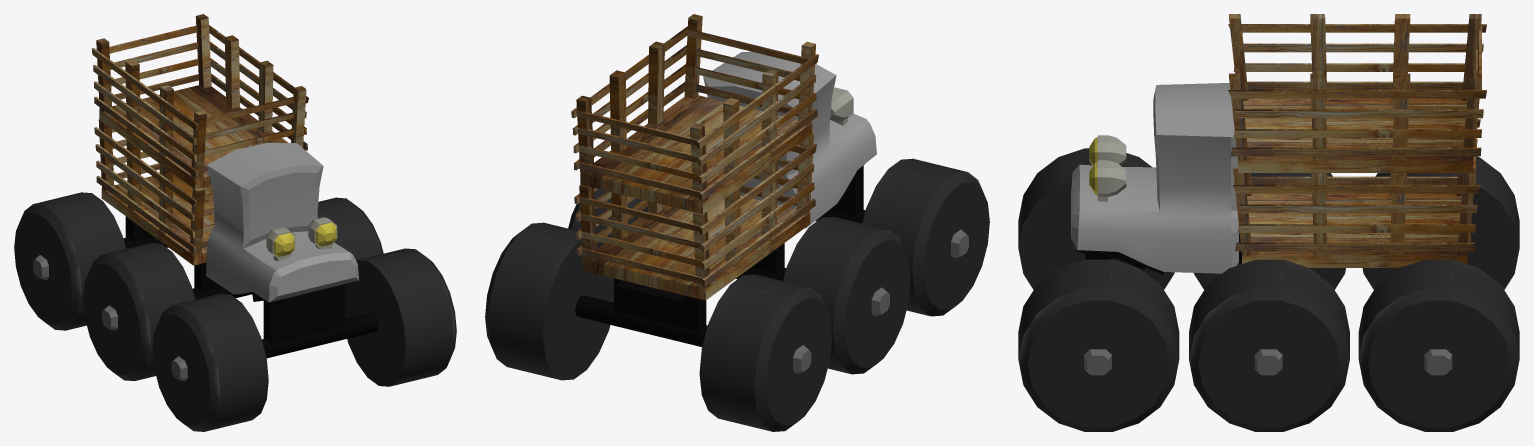
File: Truck3.obj
3 views of the same model, side by side, from view 1: azimuth 30°, elevation 25°; view 2: azimuth 150°, elevation 25°; view 3: azimuth 270°, elevation 25° (orthographic). The views are drawn at different scales.
Visible parts, largest first — view 1: Box131, Cylinder044, Cylinder043, Cylinder042, Cylinder040, Box249, Box252, Cylinder027, Box228, Cylinder041, Box230, Box247 (+21 smaller); view 2: Cylinder040, Cylinder039, Cylinder044, Cylinder042, Box252, Box131, Box228, Box249, Cylinder030, Box230, Box247, Box246 (+27 smaller); view 3: Cylinder039, Cylinder043, Cylinder041, Box131, Box252, Box228, Cylinder044, Box249, Cylinder040, Box230, Box253, Box250 (+18 smaller).
Boxes of the visible parts, x1,y1,x2,y2 form: Box131: (206, 142, 359, 302); Cylinder044: (152, 293, 268, 431); Cylinder043: (344, 248, 456, 386); Cylinder042: (83, 243, 194, 381); Cylinder040: (14, 192, 125, 330); Box249: (96, 14, 306, 179); Box252: (99, 85, 288, 189); Cylinder027: (262, 285, 378, 358); Box228: (101, 174, 214, 265); Cylinder041: (317, 197, 383, 260); Box230: (98, 119, 205, 255); Box247: (91, 48, 198, 130); Cylinder040: (699, 274, 831, 431); Cylinder039: (485, 222, 613, 380); Cylinder044: (862, 158, 989, 316); Cylinder042: (783, 216, 910, 374); Box252: (580, 95, 812, 214); Box131: (703, 51, 876, 228); Box228: (583, 195, 810, 300); Box249: (576, 14, 815, 202); Cylinder030: (575, 278, 707, 346); Box230: (579, 133, 813, 288); Box247: (696, 54, 818, 148); Box246: (699, 109, 817, 200); Cylinder039: (1358, 259, 1519, 431); Cylinder043: (1018, 259, 1179, 431); Cylinder041: (1189, 259, 1349, 431); Box131: (1071, 83, 1238, 273); Box252: (1238, 98, 1473, 172); Box228: (1242, 193, 1467, 267); Cylinder044: (1018, 148, 1174, 289); Box249: (1229, 14, 1481, 160); Cylinder040: (1362, 156, 1519, 289); Box230: (1233, 168, 1475, 255); Box253: (1231, 147, 1481, 156); Box250: (1234, 109, 1483, 118).
Bounding box in the file's own units: 257 × 245 × 352.
